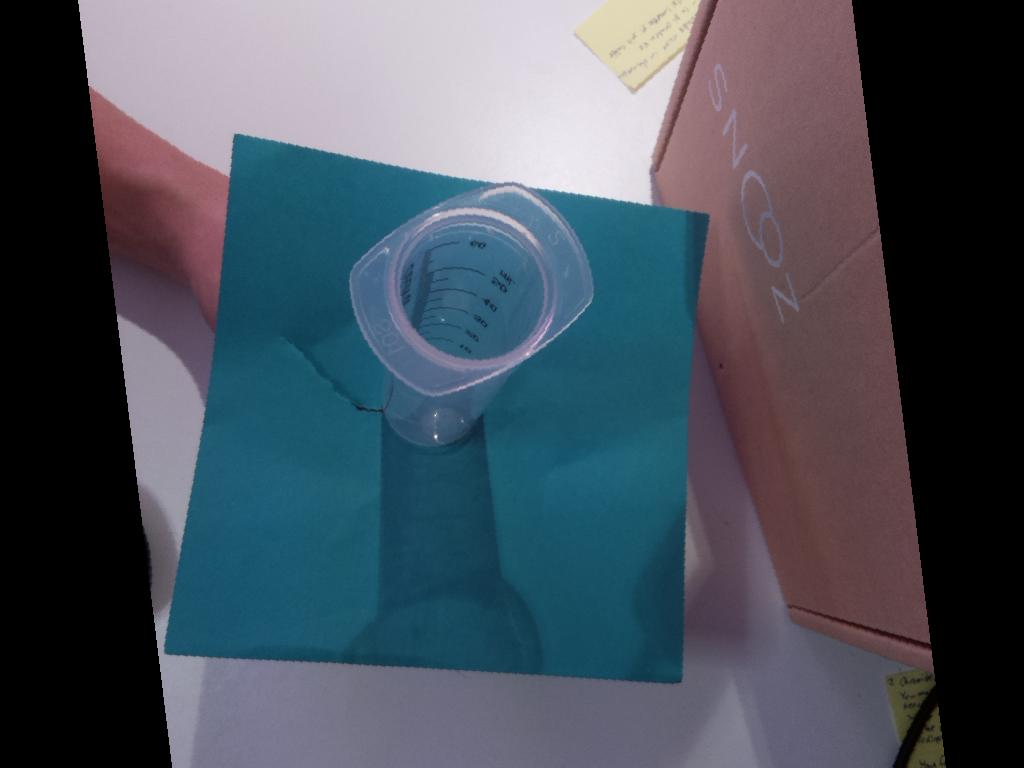clean: (349, 182, 594, 399)
